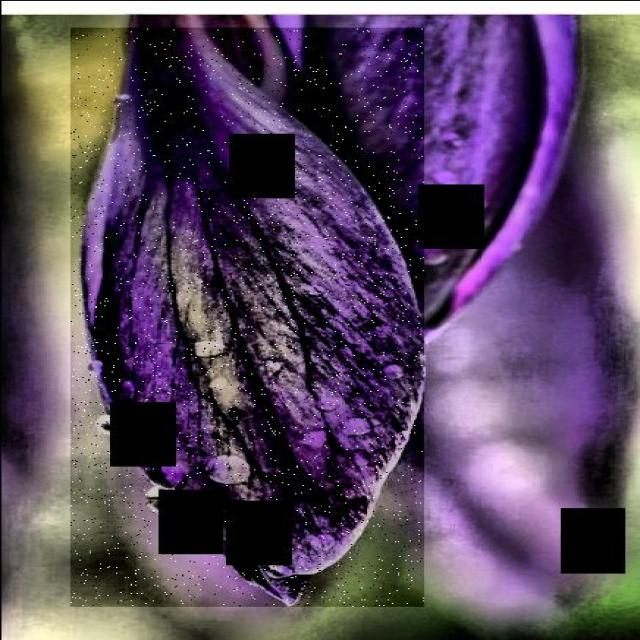Flower: (69, 27, 430, 606)
